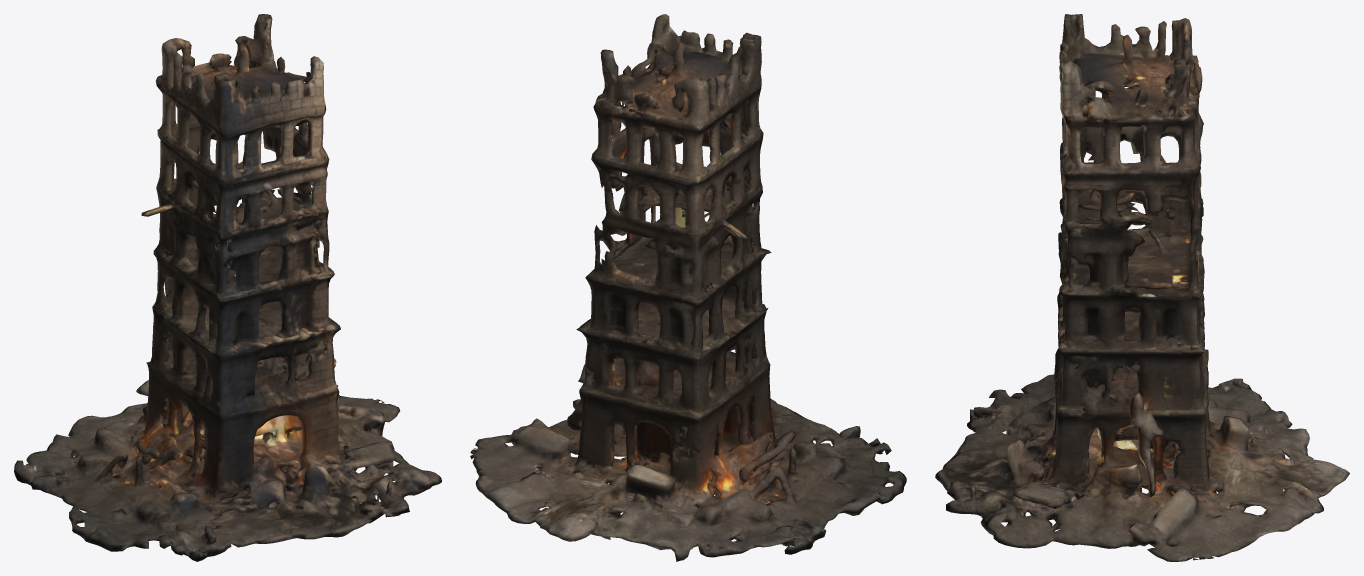
The model's file is tower.glb.
3 views of the same model, side by side, from view 1: azimuth 30°, elevation 25°; view 2: azimuth 150°, elevation 25°; view 3: azimuth 270°, elevation 25° (orthographic). The views are drawn at different scales.
Bounding box in the file's own units: 1.73 × 1.95 × 1.63.
1 material, 1 textured.
